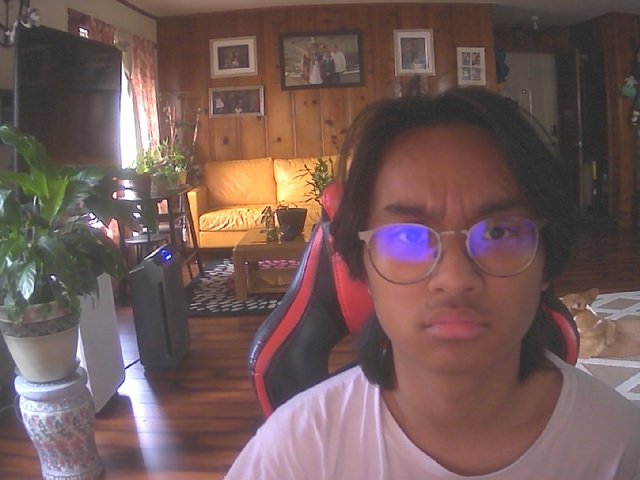anger: (345, 103, 563, 377)
